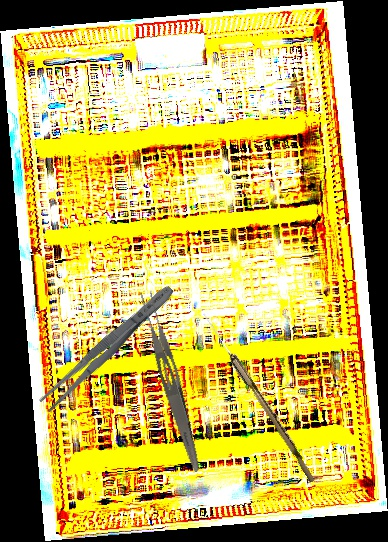Dressing Forceps: (36, 280, 179, 415), (134, 288, 210, 474)
Surgical Spoon: (198, 311, 320, 483)
